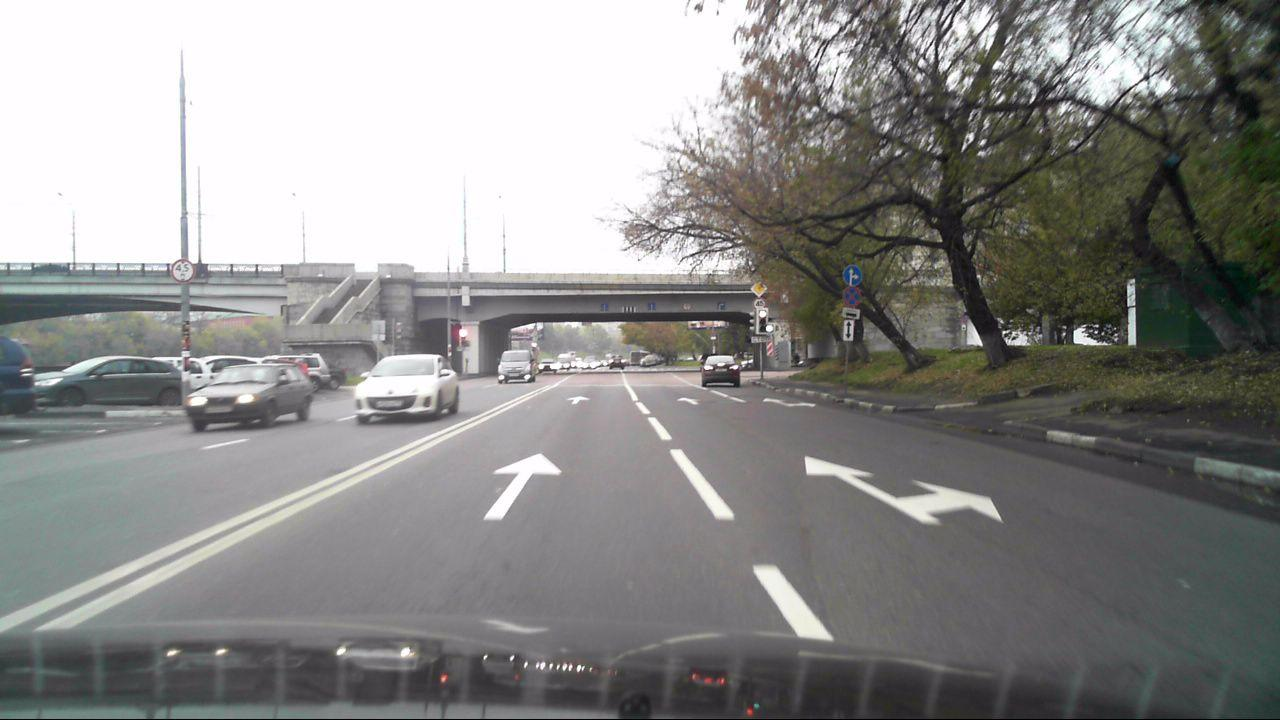2_1: (751, 281, 768, 297)
3_13: (753, 298, 767, 310), (682, 302, 692, 311)
3_27: (843, 286, 864, 307)
4_1_4: (841, 264, 862, 285)
5_15_2: (599, 302, 609, 312), (717, 302, 728, 311), (648, 302, 657, 312)
8_2_4: (843, 319, 855, 341)
8_4_4: (841, 308, 860, 319)
